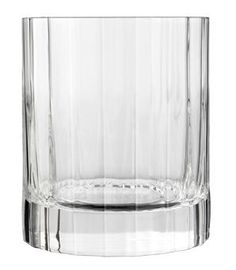glass of water: (20, 14, 214, 259)
